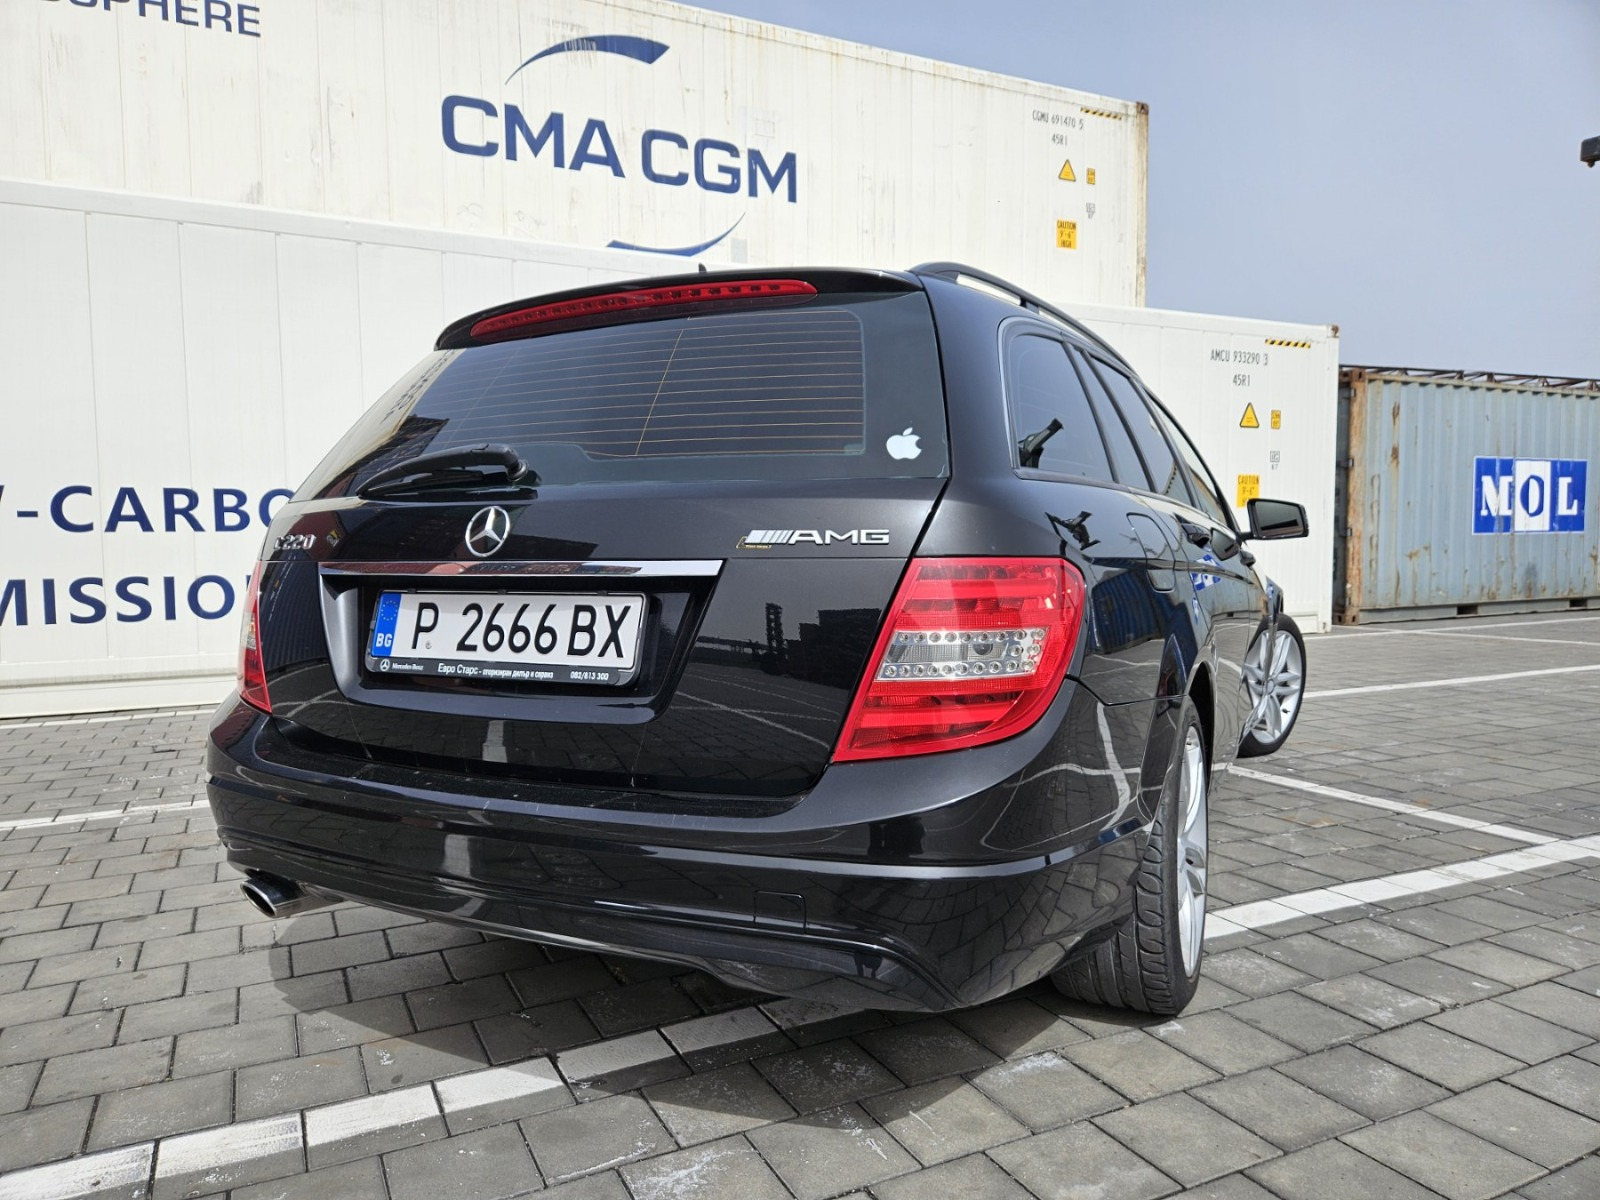registration_plate: (371, 591, 645, 673)
